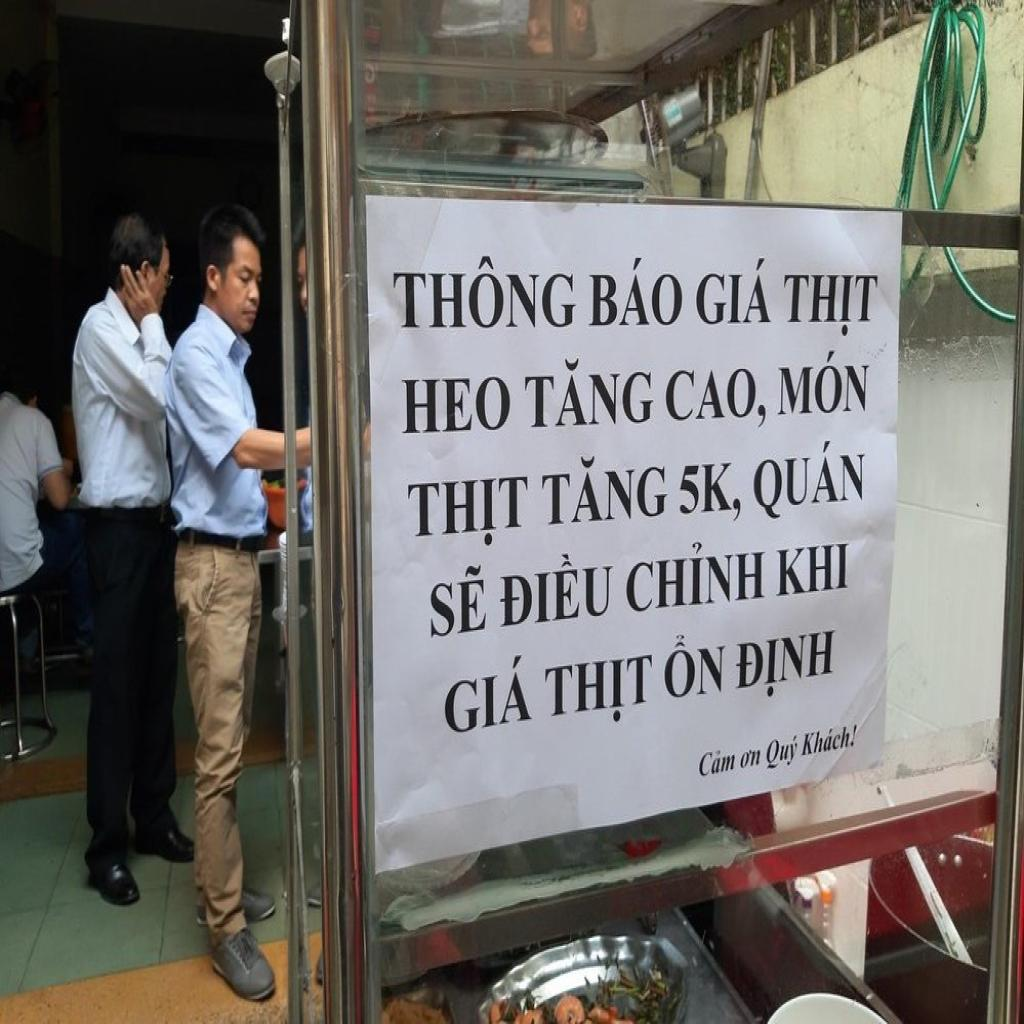text: (393, 252, 578, 331), (624, 534, 768, 618), (750, 438, 867, 528), (407, 474, 530, 556), (496, 548, 616, 632), (524, 355, 656, 431), (540, 452, 670, 528), (542, 652, 655, 733), (731, 627, 838, 707), (440, 652, 535, 738), (586, 255, 685, 328), (401, 375, 512, 438), (665, 367, 769, 433), (776, 348, 874, 418), (780, 274, 880, 339), (694, 253, 774, 327), (659, 630, 730, 702), (428, 563, 489, 642), (774, 541, 852, 600), (677, 460, 743, 528), (764, 732, 802, 774), (696, 746, 738, 782), (739, 746, 763, 774)
